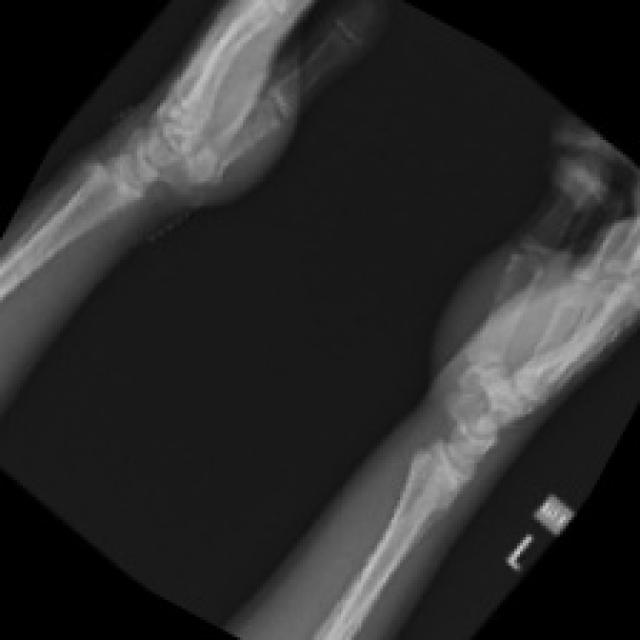fracture: (402, 396, 529, 538)
